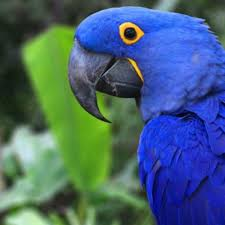guacamaya: (67, 4, 225, 167)
